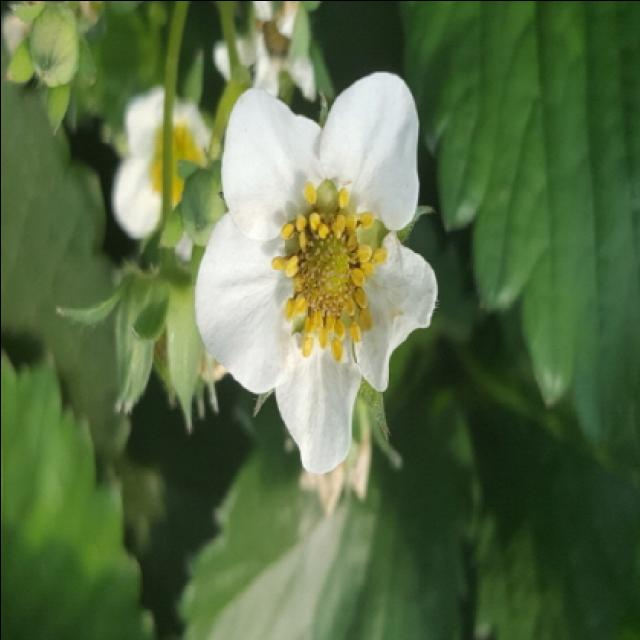Blossom Blight: (267, 181, 391, 363)
